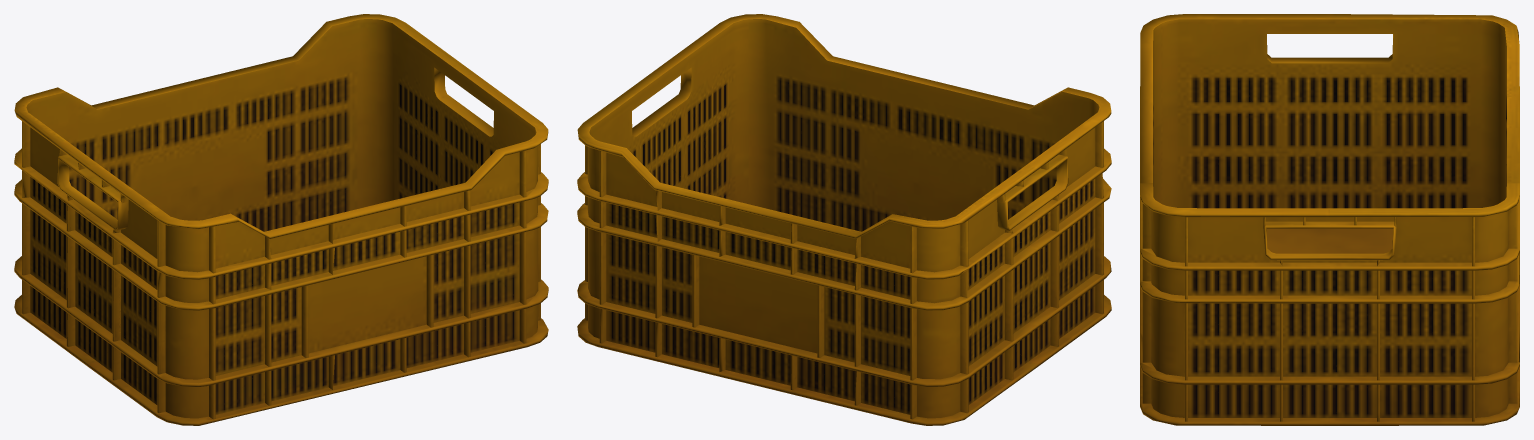
Rendered from plastic_crate.glb.
The picture shows the model from 3 angles, left to right: view 1: azimuth 30°, elevation 25°; view 2: azimuth 150°, elevation 25°; view 3: azimuth 270°, elevation 25°; orthographic projection. The views are drawn at different scales.
Visible parts, largest first — view 1: plastic_crate; view 2: plastic_crate; view 3: plastic_crate.
Part boxes in pixels (x1=…): plastic_crate: x1=14, y1=14, x2=548, y2=425; plastic_crate: x1=577, y1=14, x2=1111, y2=425; plastic_crate: x1=1140, y1=14, x2=1519, y2=425.
Bounding box in the file's own units: 0.5055 × 0.2541 × 0.4055.
1 material, 1 textured.
